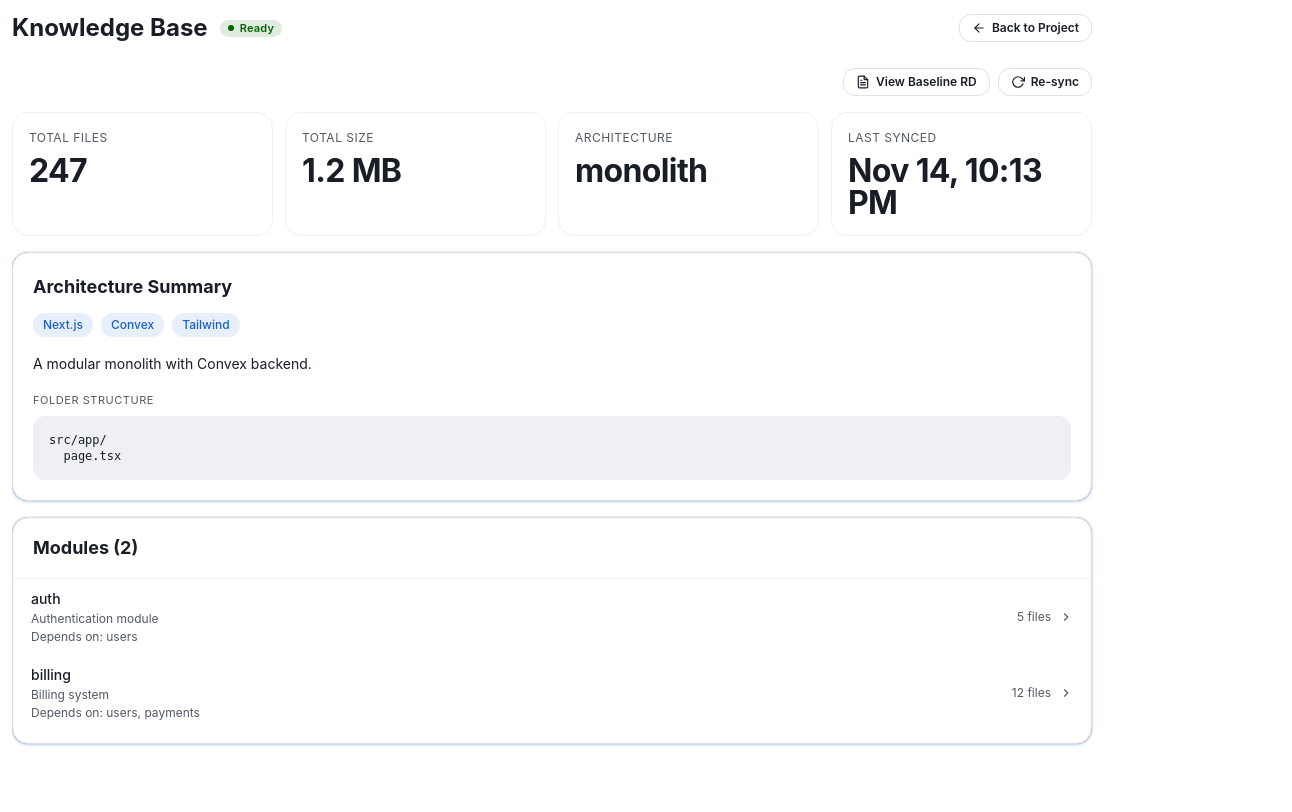
KnowledgePage › Re-sync button › shows error alert when resync action fails
Click the button "Re-sync" at (1045, 82), box [998,68,1092,96]
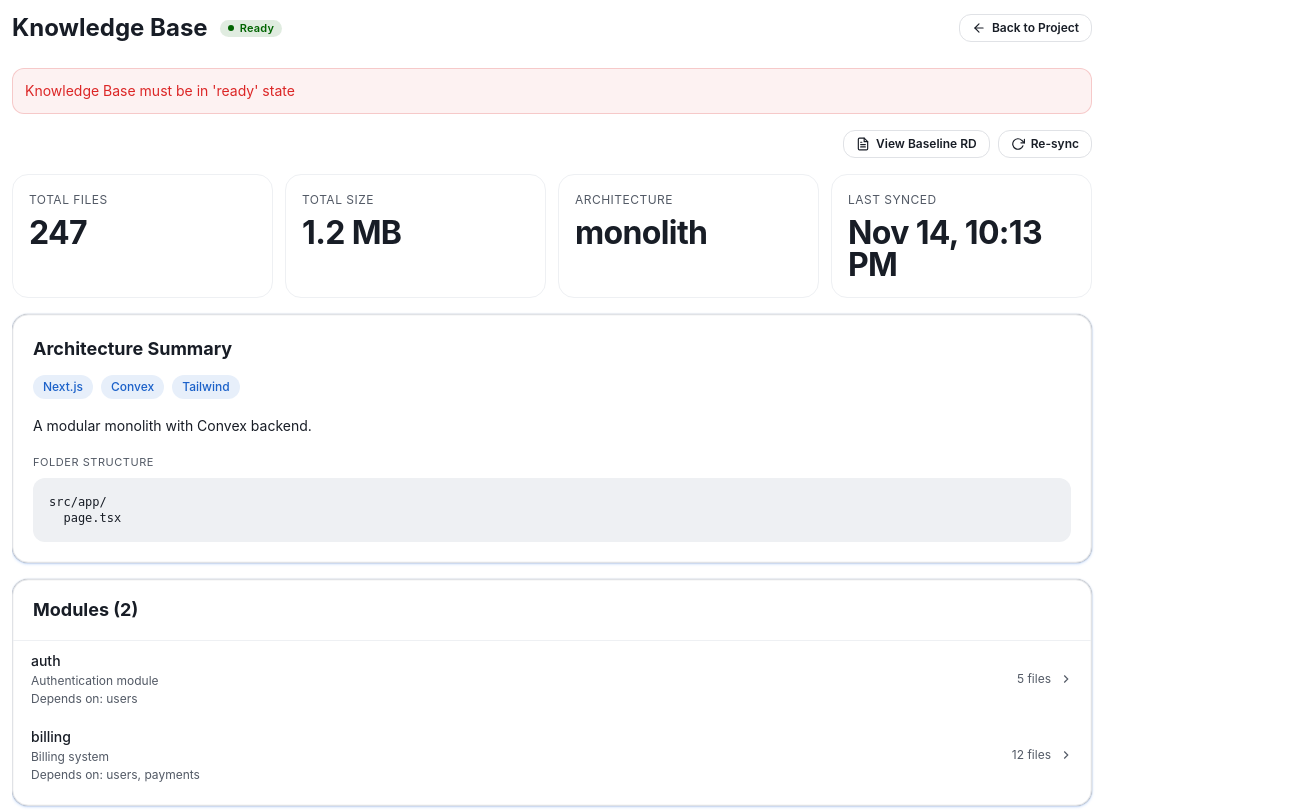
Check: the text "Knowledge Base must be in 'ready' state" is shown, box [12,68,1092,114]
